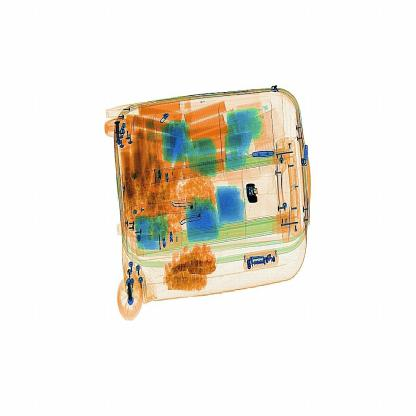wrench: (232, 171, 270, 213)
